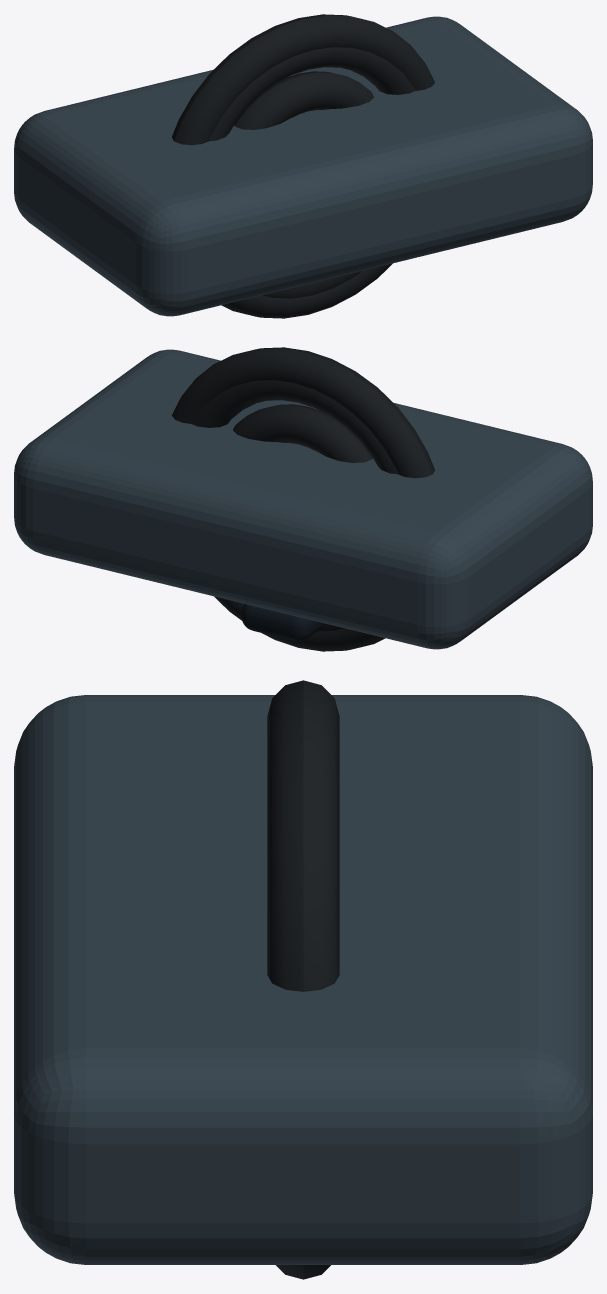
File: body_18.glb
3 renders of one model, top to bottom at view 1: azimuth 30°, elevation 25°; view 2: azimuth 150°, elevation 25°; view 3: azimuth 270°, elevation 25°, orthographic. The views are drawn at different scales.
Parts seen in each view (by area): view 1: asset_mesh__body_0926__reference_body, asset_mesh__body_0962__service_element, asset_mesh__body_0924__service_element, asset_mesh__body_0945__service_element; view 2: asset_mesh__body_0926__reference_body, asset_mesh__body_0962__service_element, asset_mesh__body_0924__service_element, asset_mesh__body_0945__service_element, asset_mesh__body_0937__mounting_base; view 3: asset_mesh__body_0926__reference_body, asset_mesh__body_0962__service_element.
Part boxes in pixels (x1,y1,x2,y2): asset_mesh__body_0926__reference_body: [14, 16, 592, 316]; asset_mesh__body_0962__service_element: [172, 14, 434, 318]; asset_mesh__body_0924__service_element: [209, 47, 415, 298]; asset_mesh__body_0945__service_element: [234, 71, 373, 129]; asset_mesh__body_0926__reference_body: [14, 349, 592, 649]; asset_mesh__body_0962__service_element: [172, 347, 434, 651]; asset_mesh__body_0924__service_element: [191, 380, 397, 631]; asset_mesh__body_0945__service_element: [233, 404, 372, 462]; asset_mesh__body_0937__mounting_base: [241, 604, 325, 641]; asset_mesh__body_0926__reference_body: [14, 695, 592, 1264]; asset_mesh__body_0962__service_element: [267, 680, 339, 1279].
Size of the model in its own units: 1.47 by 0.9164 by 0.882.
